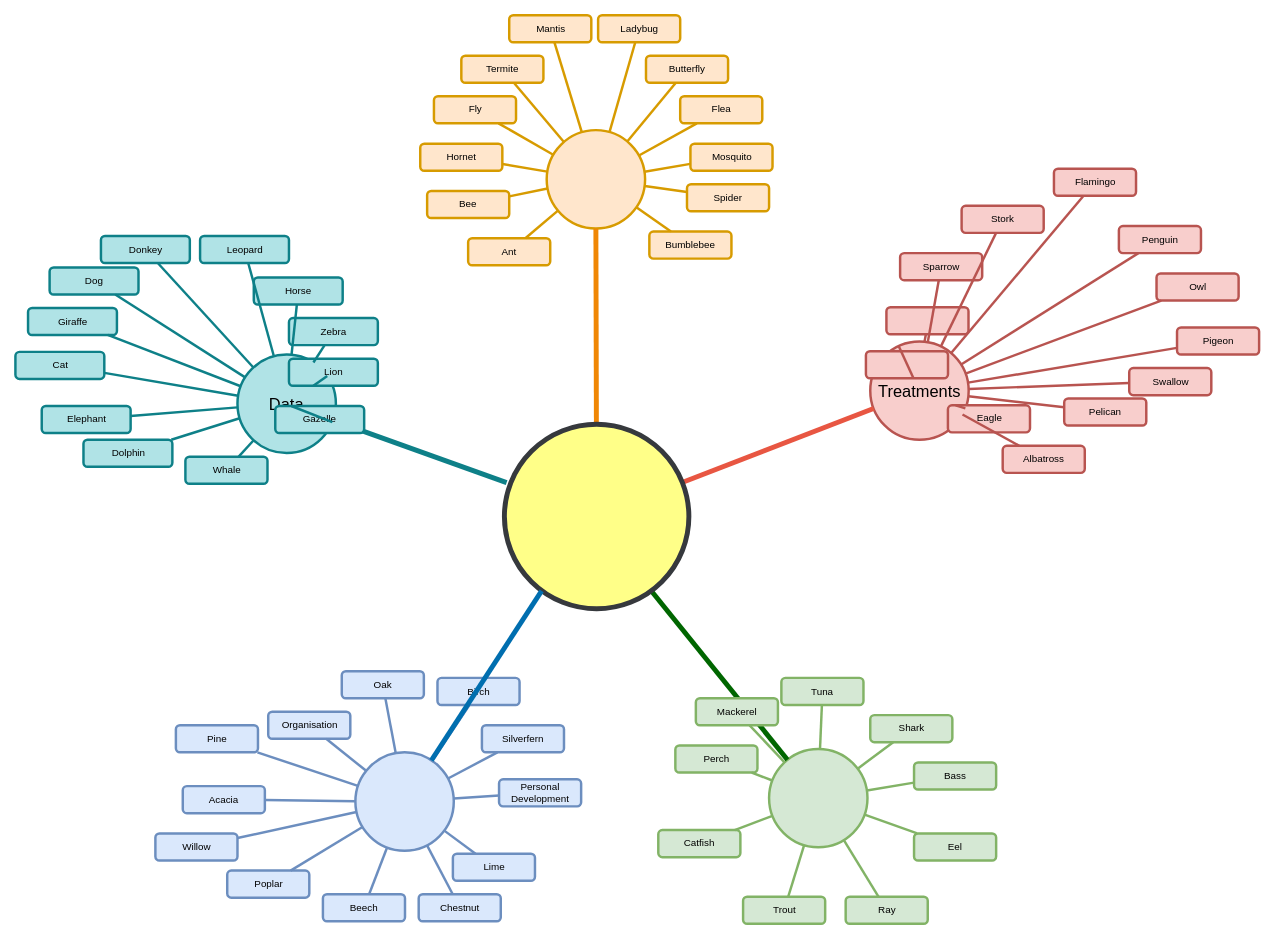
Some shapes in this 1274 by 939 pixel diagram are drawn without their labels. The shapes that lost their labels are listed below. From the top down, each one's centre as x and y in pixels, then its label:
At (595,178): "Diseases".
At (927,320): "Falcon".
At (906,364): "Hawk".
At (596,516): "Dose prediction".
At (404,801): "DL".
At (817,797): "Evaluation".
